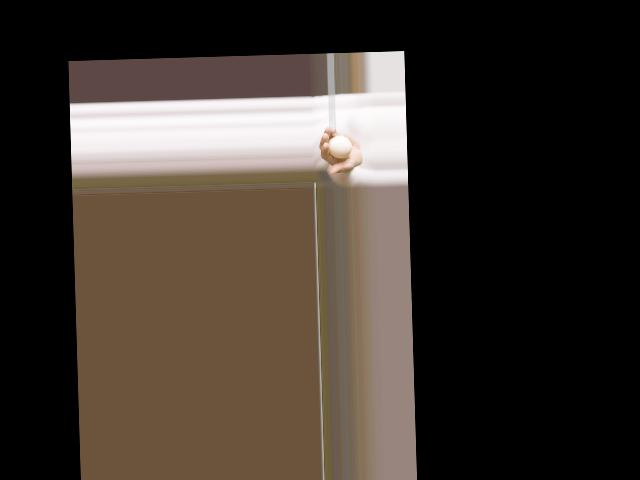egg: (327, 135, 351, 158)
